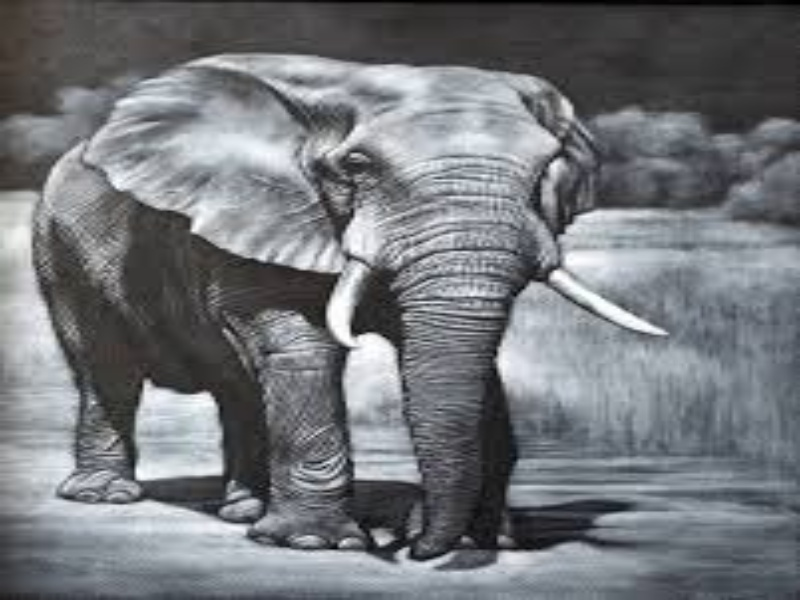elephant: (28, 35, 701, 576)
